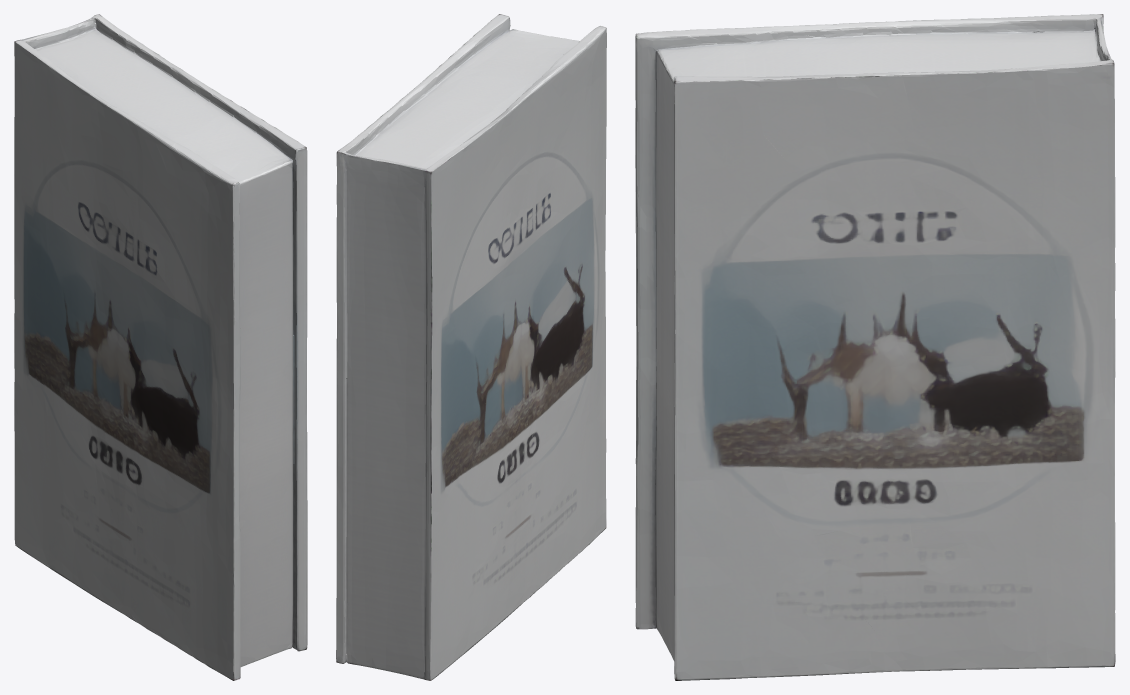
Rendered from book3.glb.
3 renders of one model, left to right at view 1: azimuth 30°, elevation 25°; view 2: azimuth 150°, elevation 25°; view 3: azimuth 270°, elevation 25°, orthographic. The views are drawn at different scales.
Parts seen in each view (by area): view 1: world; view 2: world; view 3: world.
Boxes of the visible parts, left/top/right/bottom form: world: left=14, top=14, right=307, bottom=680; world: left=336, top=14, right=606, bottom=680; world: left=635, top=14, right=1115, bottom=680.
Bounding box in the file's own units: 0.2323 × 0.9862 × 0.7104.
1 material, 1 textured.
